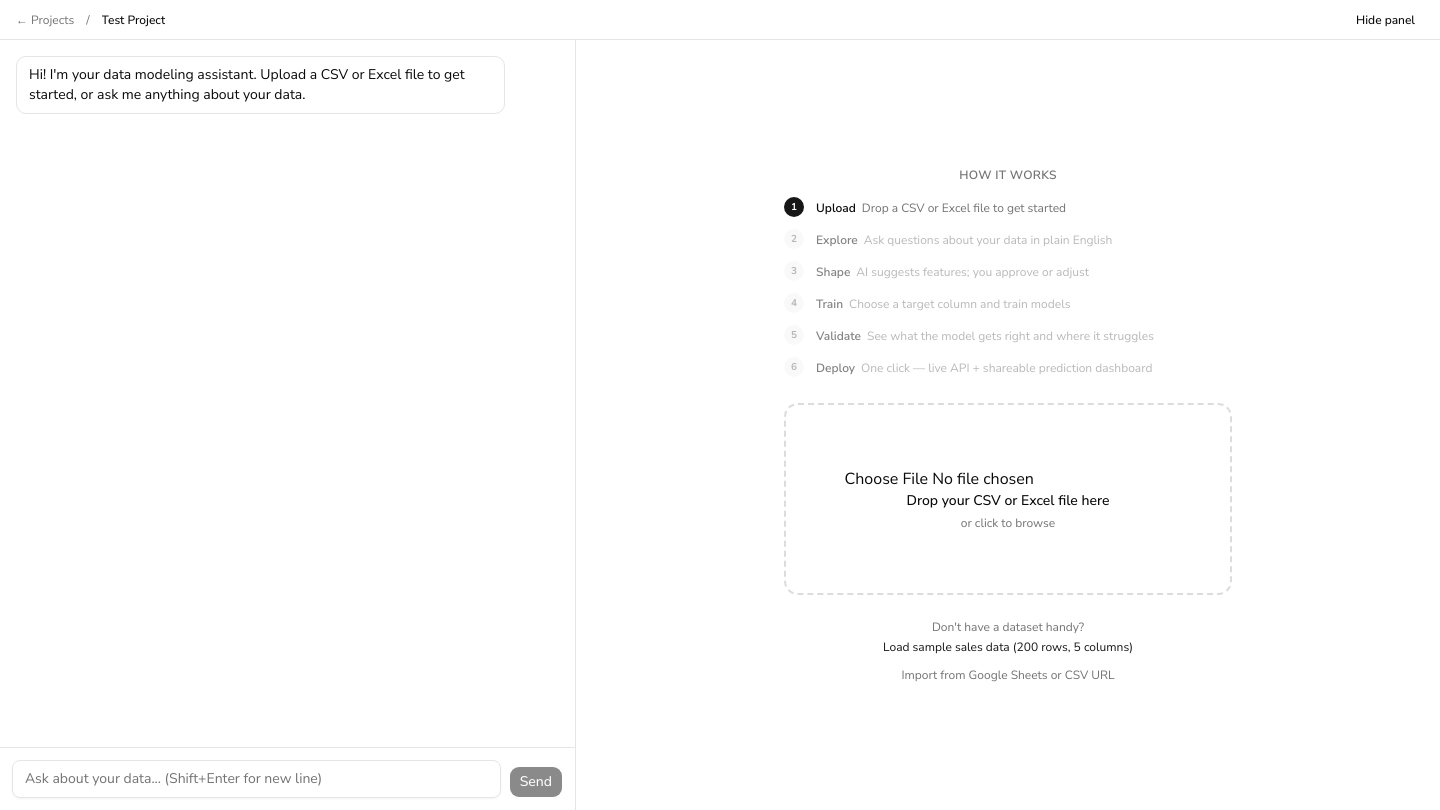
Test: ProjectWorkspace — chat functionality › sends message and clears input
In the text box with placeholder "Ask about your data... (Shift+Enter for new line)": (256, 779) [12, 760, 501, 798], type "What is my data?"
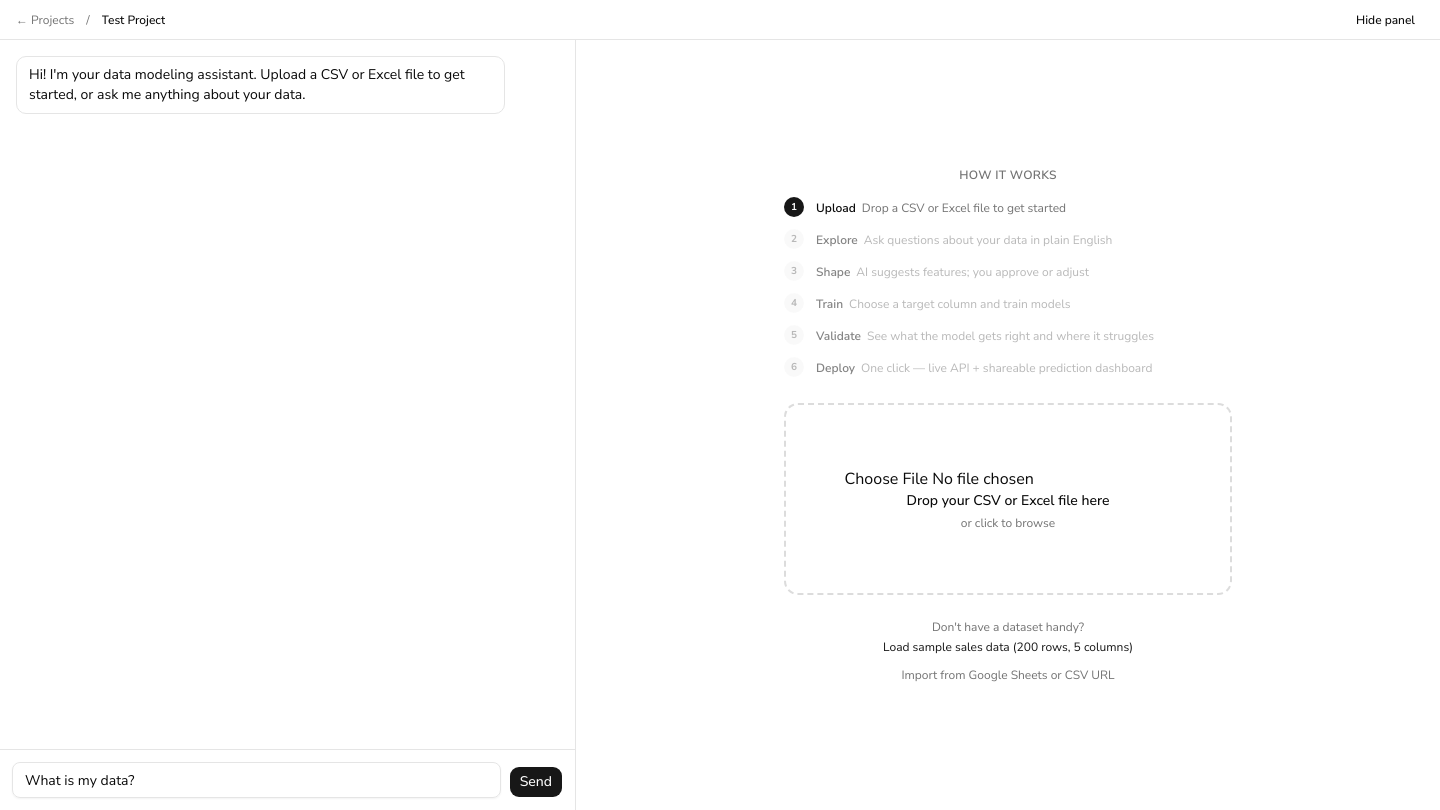
Click the button "Send": (536, 782) [509, 766, 563, 798]
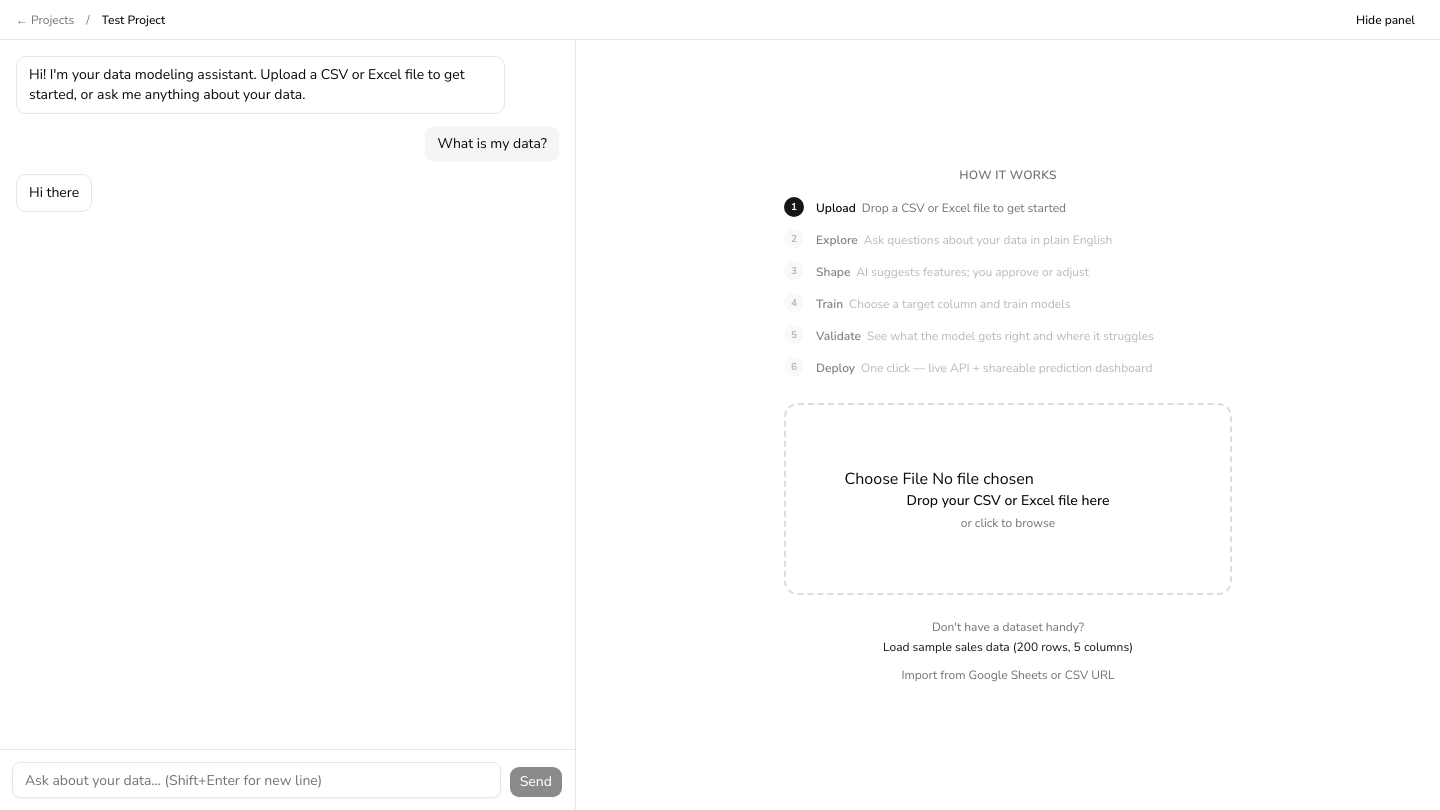
Check: the text box with placeholder "Ask about your data... (Shift+Enter for new line)" is empty, box [12, 762, 501, 798]
Check: the text "What is my data?" is shown, box [426, 126, 559, 162]
